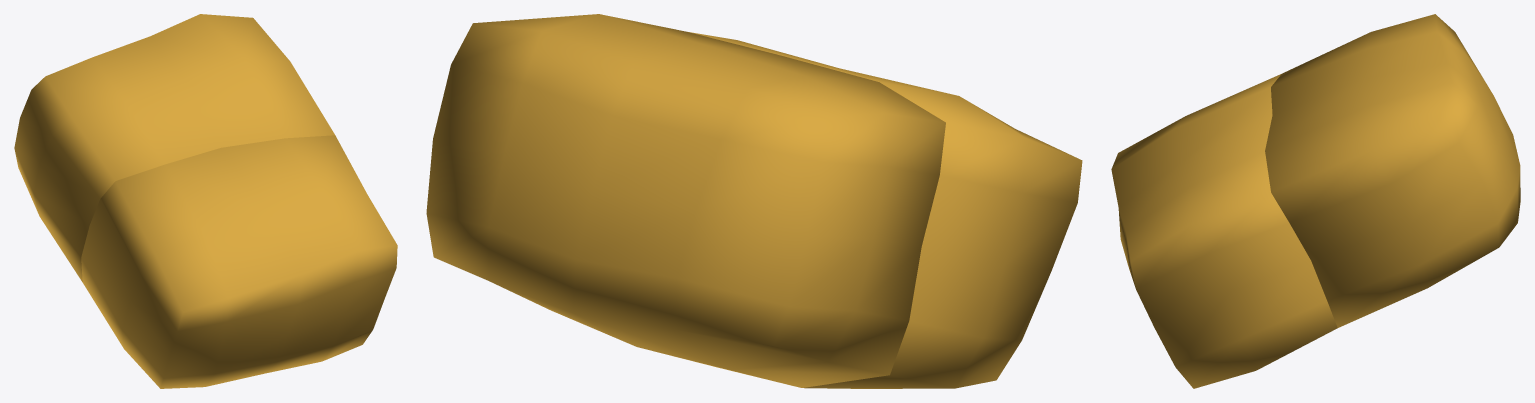
The model's file is tahu.fbx.
The picture shows the model from 3 angles, left to right: view 1: azimuth 30°, elevation 25°; view 2: azimuth 150°, elevation 25°; view 3: azimuth 270°, elevation 25°; orthographic projection. The views are drawn at different scales.
Visible parts, largest first — view 1: tahu; view 2: tahu; view 3: tahu.
Part boxes in pixels (left/top/right/bottom): tahu: left=14, top=14, right=397, bottom=388; tahu: left=426, top=14, right=1082, bottom=388; tahu: left=1111, top=14, right=1520, bottom=388.
Size of the model in its own units: 1.91 by 2.03 by 2.58.
